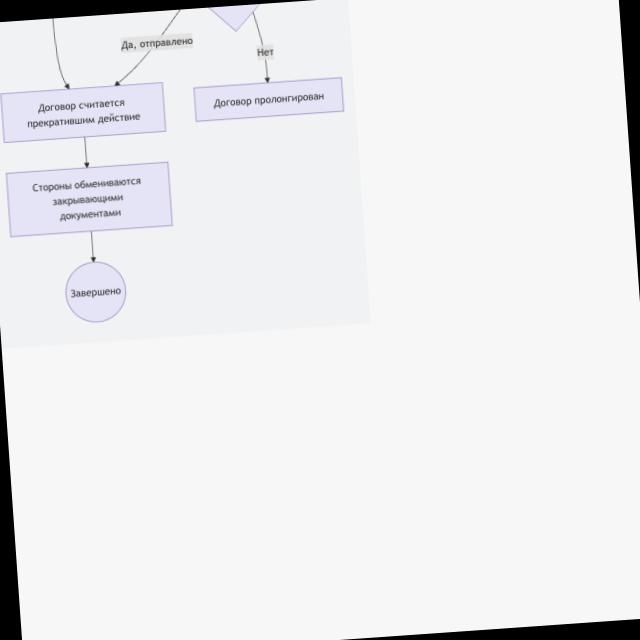arrow: (248, 9, 270, 83), (53, 19, 70, 89), (115, 52, 149, 85), (91, 232, 96, 261), (84, 138, 89, 167)
circle: (66, 262, 126, 322)
rectangle: (7, 163, 172, 237), (1, 83, 166, 142), (194, 79, 344, 122)
text_region: (120, 32, 192, 52), (250, 43, 278, 60)
